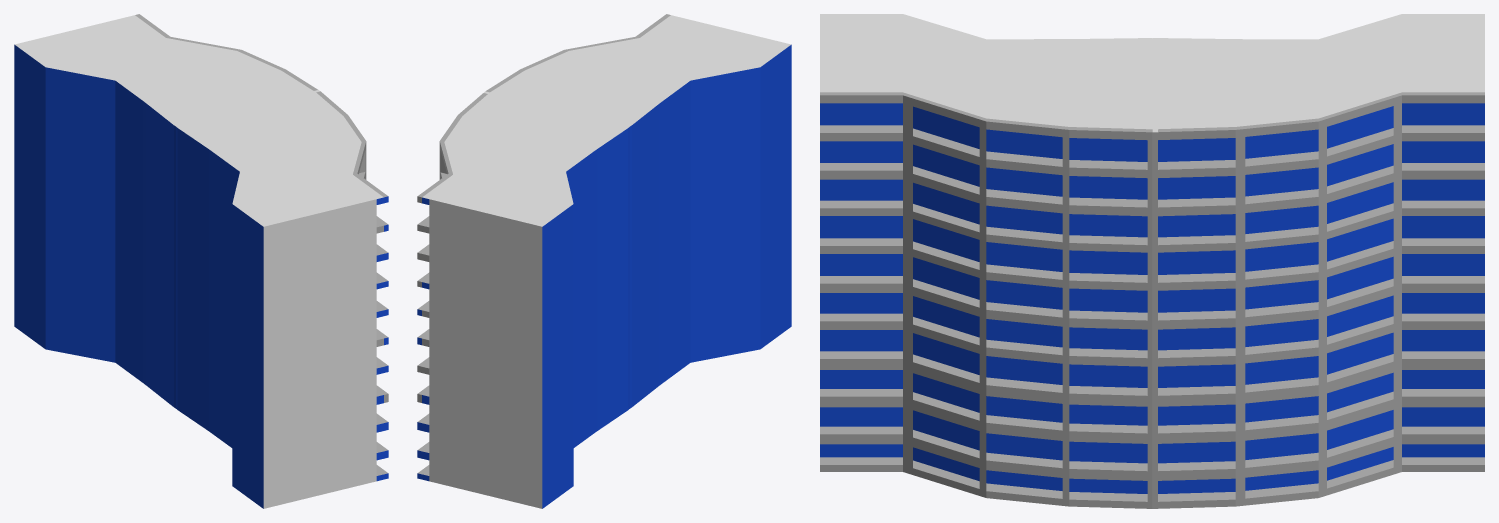
File: 米窓fbx.fbx
3 renders of one model, left to right at view 1: azimuth 30°, elevation 25°; view 2: azimuth 150°, elevation 25°; view 3: azimuth 270°, elevation 25°, orthographic. The views are drawn at different scales.
Parts seen in each view (by area): view 1: Cube; view 2: Cube; view 3: Cube.
Boxes of the visible parts, x1,y1,x2,y2 form: Cube: [14, 14, 388, 508]; Cube: [417, 14, 791, 508]; Cube: [820, 14, 1484, 508].
Bounding box in the file's own units: 13.48 × 20 × 32.
